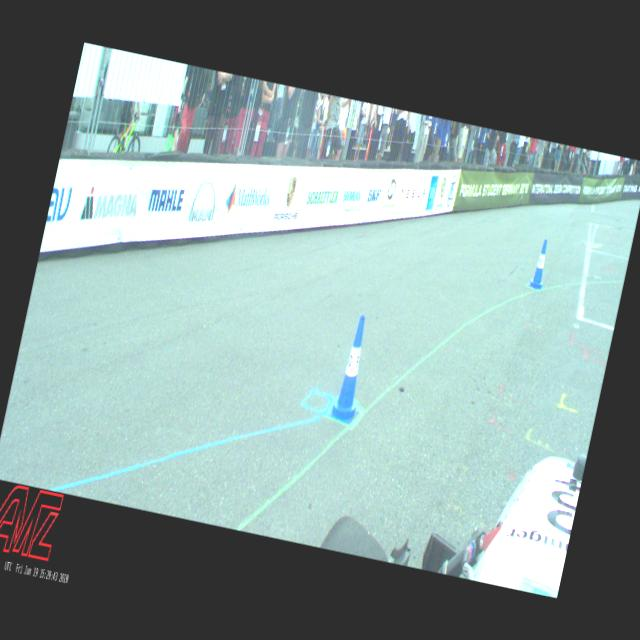blue_cone: (326, 312, 377, 426), (527, 238, 552, 292)
